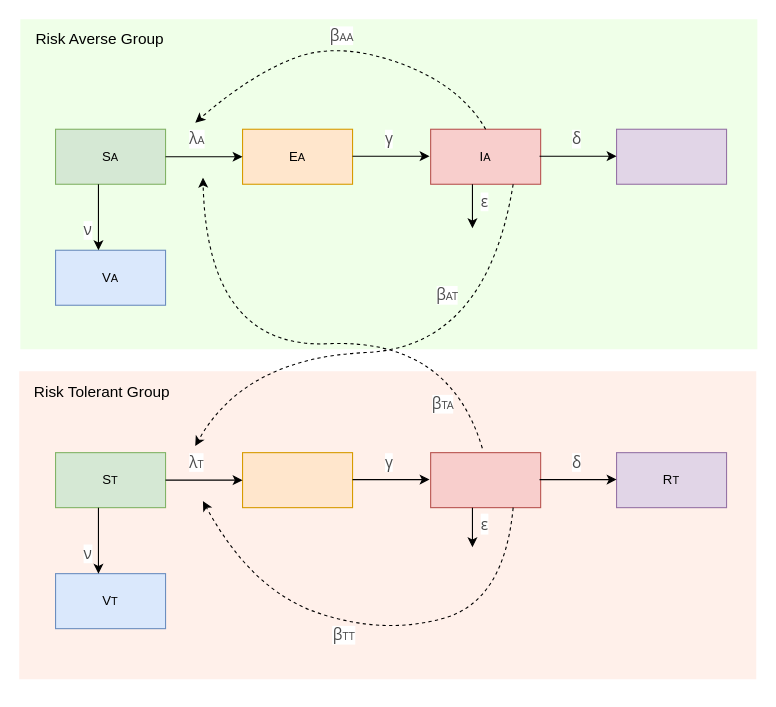
Some shapes in this 776 by 707 pixel diagram are drawn without their labels. The centre of each missing label's shape, as x and y in pixels:
"E T" goes at point (297, 480).
"I T" goes at point (485, 480).
"R A" goes at point (671, 156).
